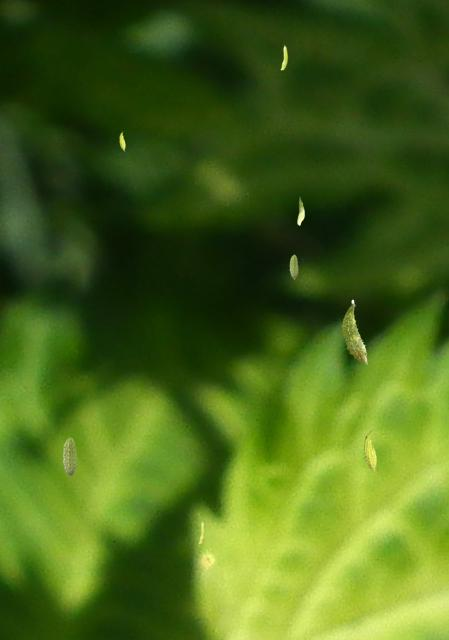ampalaya: (341, 299, 368, 364), (363, 429, 377, 473), (62, 437, 77, 478), (297, 196, 305, 226), (289, 254, 298, 279), (280, 44, 288, 70), (198, 521, 205, 544), (119, 130, 125, 152)
